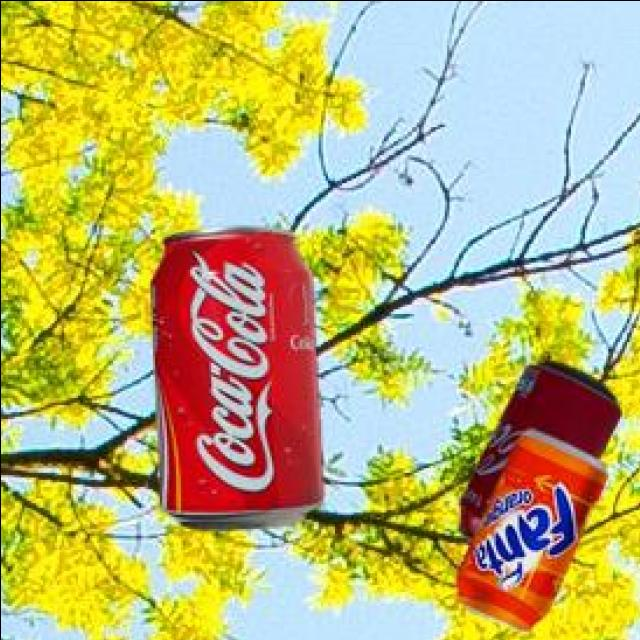logam: (153, 230, 326, 531), (459, 431, 611, 634), (461, 363, 622, 545)
